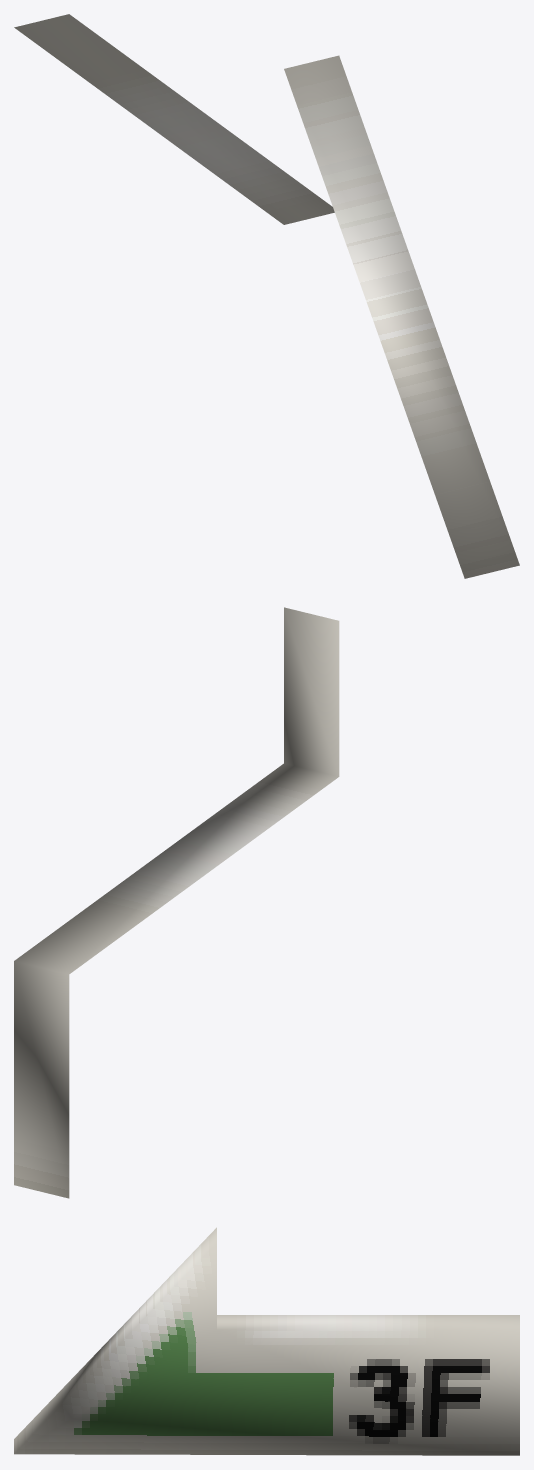
The model's file is a_SCsign01_b3.glb.
3 views of the same model, one above another, from view 1: azimuth 30°, elevation 25°; view 2: azimuth 150°, elevation 25°; view 3: azimuth 270°, elevation 25° (orthographic). The views are drawn at different scales.
Visible parts, largest first — view 1: a_SCsign01_b3; view 2: a_SCsign01_b3; view 3: a_SCsign01_b3.
Part boxes in pixels (box(x1,y1,x2,y2)): a_SCsign01_b3: box(14, 14, 519, 578); a_SCsign01_b3: box(14, 607, 339, 1198); a_SCsign01_b3: box(14, 1227, 519, 1455).
Size of the model in its own units: 0.0424 by 0.279 by 0.5994.
1 material, 1 textured.
